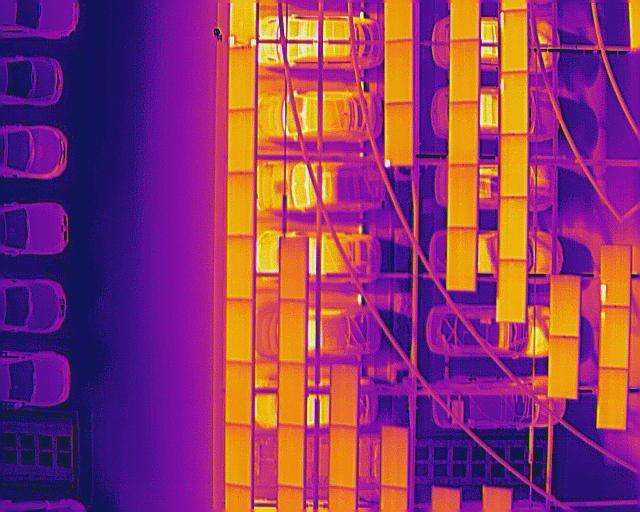Cell: (599, 305, 630, 369), (385, 103, 413, 166)
Cell-Multi: (228, 0, 256, 49)
No-Anomaly: (447, 100, 480, 166), (447, 164, 479, 229), (549, 273, 580, 338), (446, 227, 477, 291), (227, 108, 257, 174), (548, 336, 579, 398), (495, 261, 526, 322), (225, 236, 254, 301), (498, 196, 527, 260), (226, 173, 255, 237), (596, 369, 627, 428), (450, 40, 479, 103), (384, 39, 412, 104), (279, 236, 306, 302), (225, 300, 253, 363), (500, 134, 528, 197), (226, 362, 254, 424), (279, 300, 306, 364), (225, 424, 252, 488), (329, 426, 356, 490), (330, 364, 357, 427), (279, 362, 305, 427), (229, 48, 256, 109), (278, 424, 303, 489), (382, 427, 407, 490), (384, 0, 412, 42), (451, 0, 480, 39)
Unclassified: (600, 243, 631, 308), (500, 8, 527, 72), (500, 71, 527, 134)
